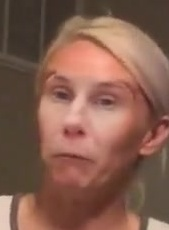eb_f: (42, 66, 142, 116)
